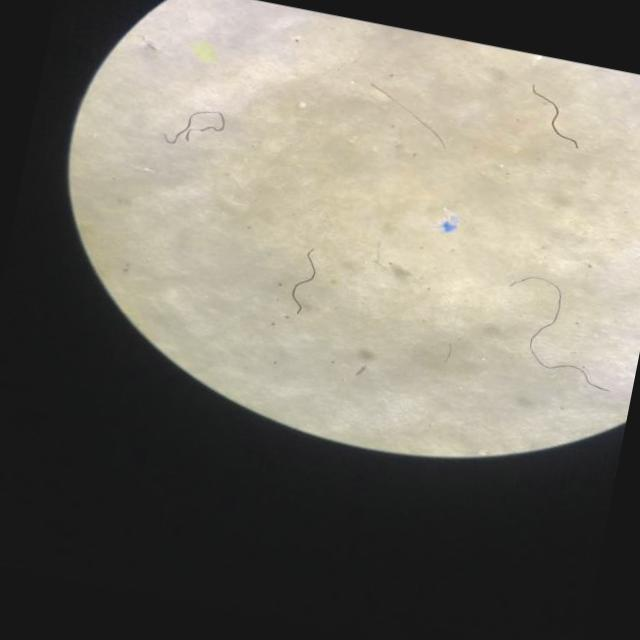fiber: (511, 276, 602, 389), (532, 85, 579, 148), (164, 112, 225, 144), (291, 249, 314, 315)
film: (440, 214, 459, 231)
fragment: (194, 44, 215, 63)
